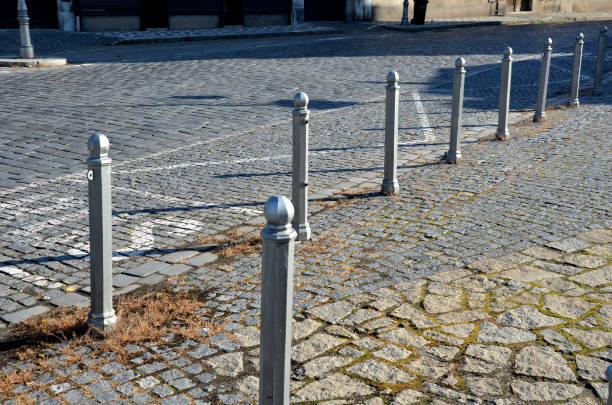bollard: (255, 191, 300, 403), (82, 127, 117, 335), (441, 55, 470, 166), (380, 70, 404, 200), (492, 44, 516, 141)
